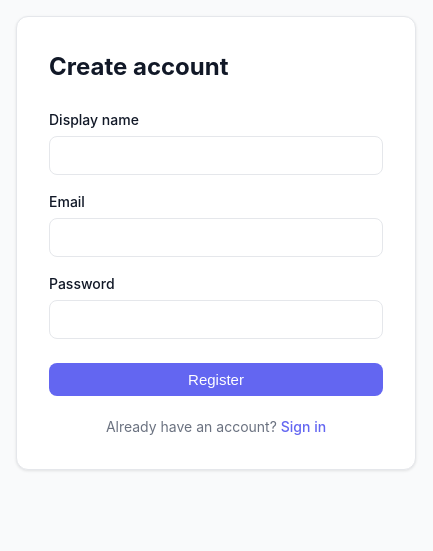
RegisterPage › shows error on registration failure
The width and height of the screenshot is (433, 551).
Type "Bob" into the field labelled "Display name" at (216, 156), box [49,136,383,175]
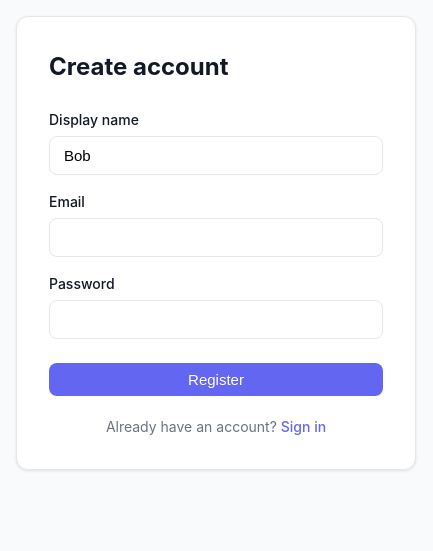
Type "bob@test.com" into the field labelled "Email" at (216, 238), box [49,218,383,257]
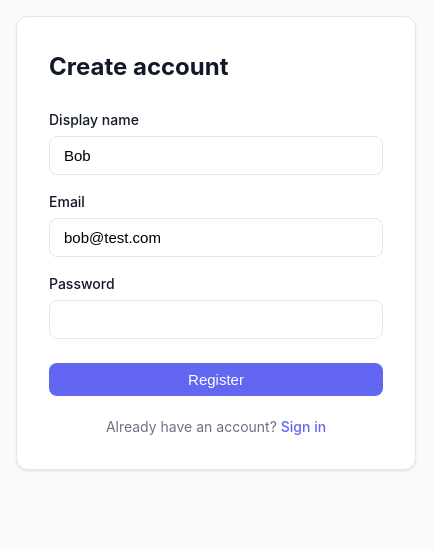
Type "pass123" into the password field labelled "Password" at (216, 320), box [49,300,383,339]
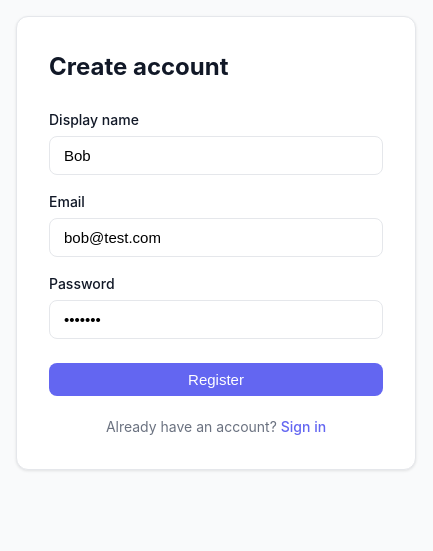
Click the button "Register" at (216, 380), box [49,363,383,396]
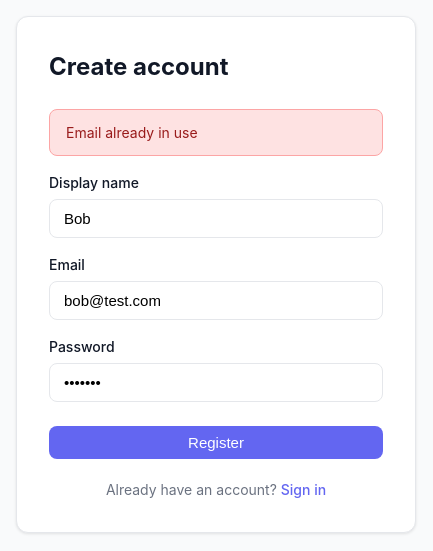
Expected: the text "Email already in use" is shown, [49,109,383,156]
